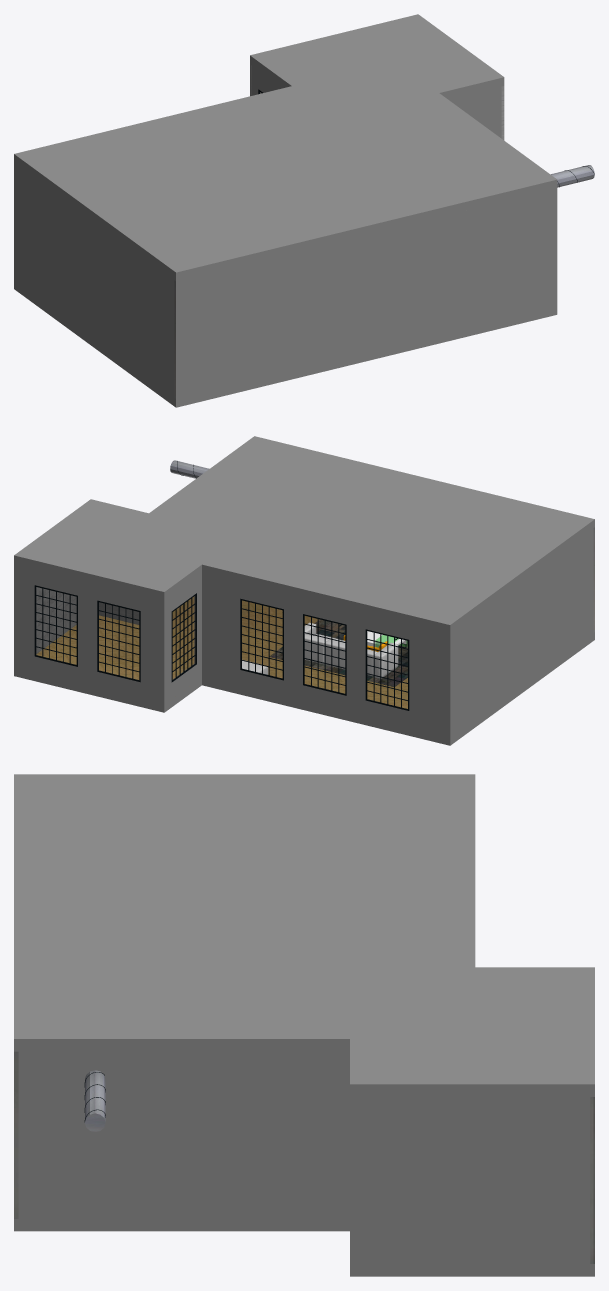
The model's file is Minimum01.obj.
3 renders of one model, top to bottom at view 1: azimuth 30°, elevation 25°; view 2: azimuth 150°, elevation 25°; view 3: azimuth 270°, elevation 25°, orthographic. The views are drawn at different scales.
Parts seen in each view (by area): view 1: External01, Base01; view 2: External01, Base01, Iron01, Sofas01; view 3: External01, Base01.
Boxes of the visible parts, box(x1,y1,x2,y2) form: External01: box(14, 14, 557, 407); Base01: box(174, 65, 594, 398); External01: box(14, 436, 594, 745); Base01: box(36, 460, 594, 708); Iron01: box(34, 585, 409, 710); Sofas01: box(304, 622, 398, 678); External01: box(14, 774, 594, 1276); Base01: box(14, 1051, 594, 1263).
Size of the model in its own units: 626 by 181 by 496.
